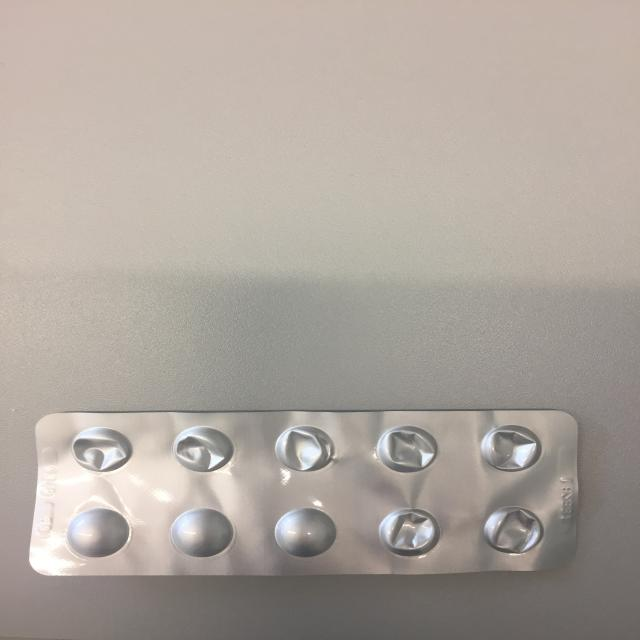Empty: (376, 508, 449, 559), (480, 504, 548, 558), (168, 425, 238, 476), (372, 423, 441, 474), (270, 424, 340, 474), (477, 423, 546, 473), (68, 425, 136, 475)
Pill: (62, 508, 138, 560), (168, 506, 236, 560), (272, 506, 340, 559)
